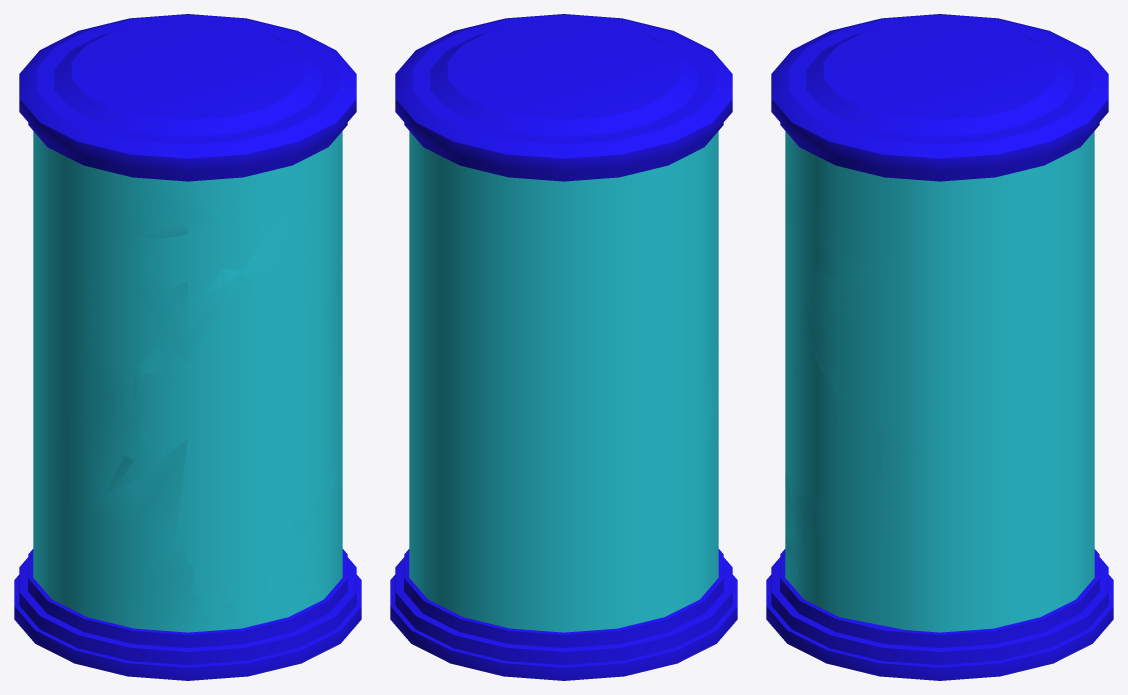
Rendered from SM_Tank.fbx.
3 renders of one model, left to right at view 1: azimuth 30°, elevation 25°; view 2: azimuth 150°, elevation 25°; view 3: azimuth 270°, elevation 25°, orthographic.
Visible parts, largest first — view 1: Tank_Glass_lp, Tank_Glass_broken1_lp, Tank_Frame_lp, Tank_Glass_broken2_lp; view 2: Tank_Glass_lp, Tank_Glass_broken1_lp, Tank_Frame_lp, Tank_Glass_broken2_lp; view 3: Tank_Glass_lp, Tank_Glass_broken1_lp, Tank_Frame_lp, Tank_Glass_broken2_lp.
Part boxes in pixels (x1,y1,x2,y2): Tank_Glass_lp: (33,131,342,628); Tank_Glass_broken1_lp: (33,131,342,632); Tank_Frame_lp: (14,14,361,680); Tank_Glass_broken2_lp: (33,133,342,632); Tank_Glass_lp: (409,131,705,632); Tank_Glass_broken1_lp: (409,131,718,632); Tank_Frame_lp: (390,14,737,680); Tank_Glass_broken2_lp: (409,133,718,632); Tank_Glass_lp: (785,131,1094,632); Tank_Glass_broken1_lp: (785,131,1094,631); Tank_Frame_lp: (766,14,1113,680); Tank_Glass_broken2_lp: (785,133,1094,631).
Size of the model in its own units: 23.9 by 40.06 by 23.53.
